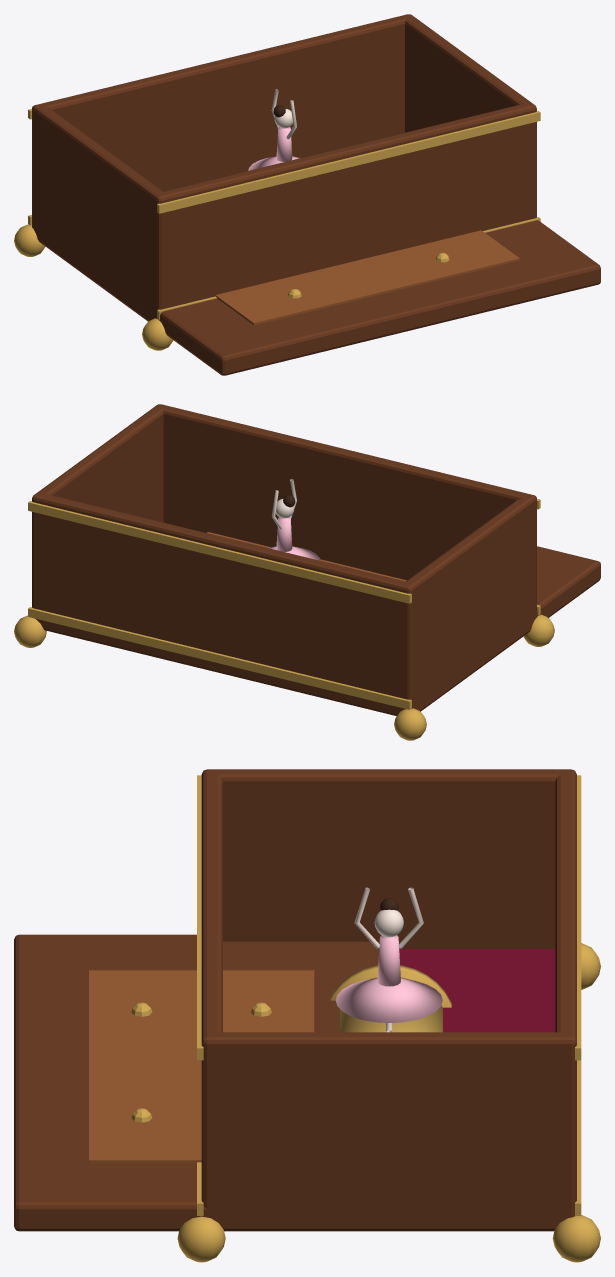
File: caja.glb
3 views of the same model, one above another, from view 1: azimuth 30°, elevation 25°; view 2: azimuth 150°, elevation 25°; view 3: azimuth 270°, elevation 25° (orthographic). The views are drawn at different scales.
Parts seen in each view (by area): view 1: Caja, Tapa, Bailarina; view 2: Caja, Tapa, Bailarina; view 3: Caja, Tapa, Bailarina, Tambor.
Boxes of the visible parts, bbox=[...] form: Caja: bbox=[14, 14, 540, 350]; Tapa: bbox=[96, 220, 600, 375]; Bailarina: bbox=[248, 89, 300, 170]; Caja: bbox=[14, 404, 554, 740]; Tapa: bbox=[207, 532, 600, 662]; Bailarina: bbox=[268, 479, 320, 560]; Caja: bbox=[177, 769, 600, 1262]; Tapa: bbox=[14, 934, 383, 1231]; Bailarina: bbox=[335, 887, 442, 1032]; Tambor: bbox=[330, 965, 451, 1032].
Size of the model in its own units: 2.58 by 1.14 by 2.19.
